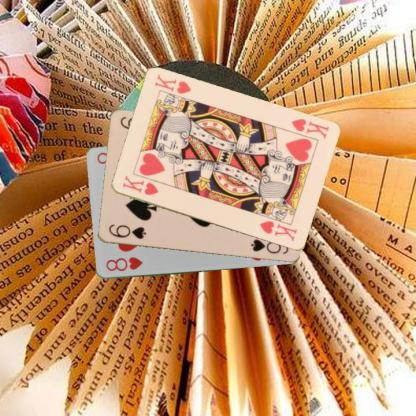6s: (106, 222, 147, 240)
8h: (103, 254, 144, 273)
Kh: (288, 116, 330, 141), (119, 173, 160, 197)
